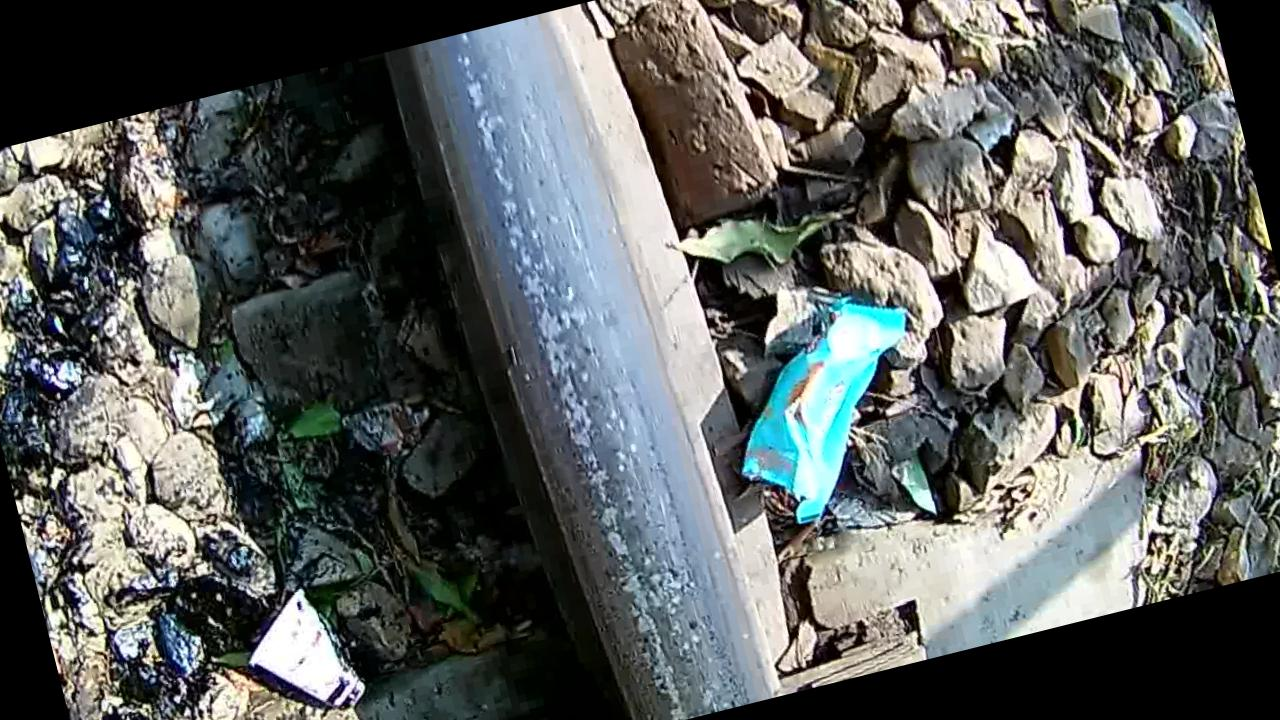clip_missing: (407, 0, 769, 720)
